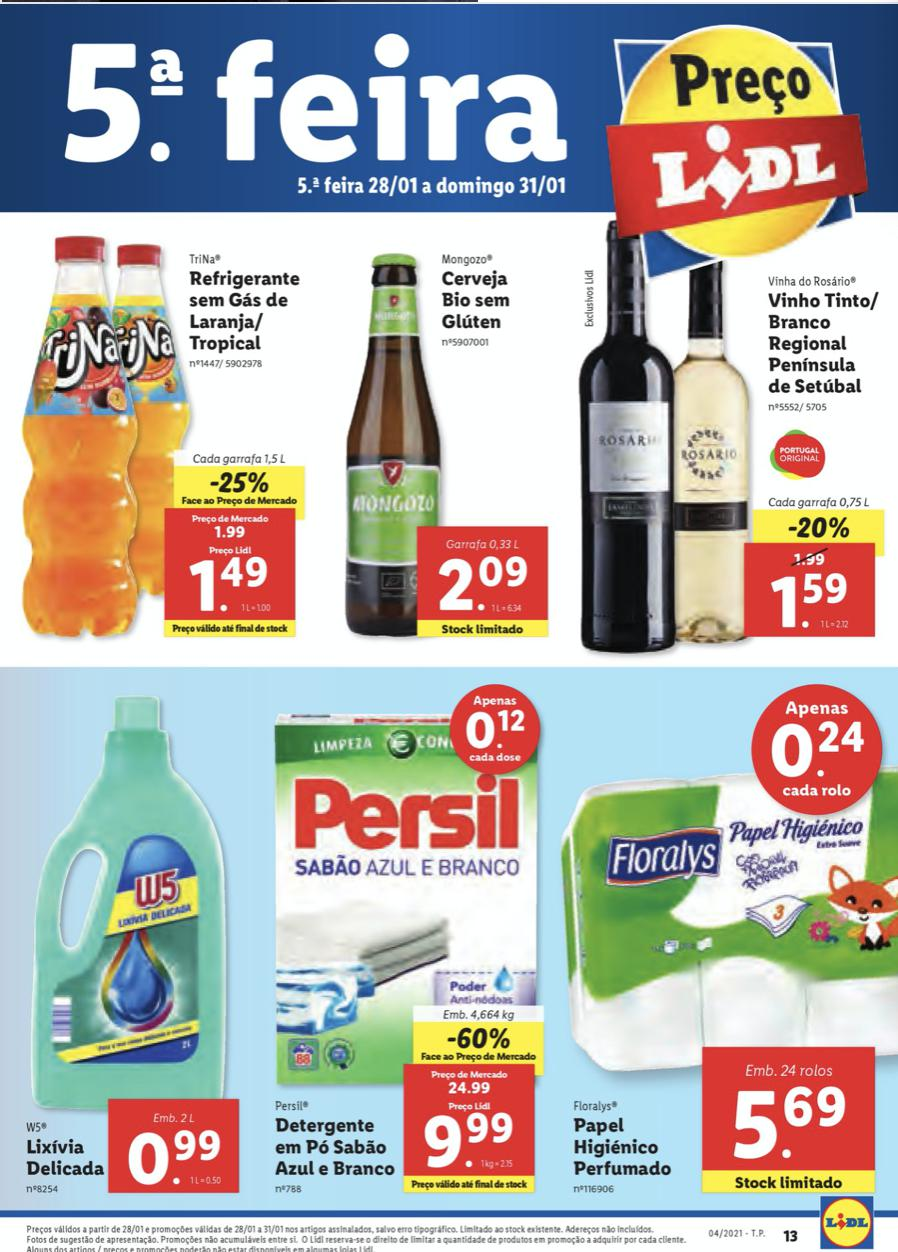name: (766, 291, 880, 397), (184, 264, 306, 353), (272, 1112, 399, 1180), (566, 1111, 678, 1180), (434, 269, 516, 331), (24, 1134, 109, 1180)
price: (731, 1081, 852, 1164), (184, 545, 277, 617), (433, 552, 534, 616), (420, 1111, 516, 1172), (128, 1128, 224, 1186), (772, 570, 856, 634)
product: (558, 680, 889, 1197), (254, 686, 559, 1199), (563, 250, 895, 662), (13, 687, 264, 1203), (22, 227, 324, 652), (313, 234, 559, 652)
promotion: (442, 1025, 513, 1053), (211, 467, 272, 495), (784, 517, 853, 541)
